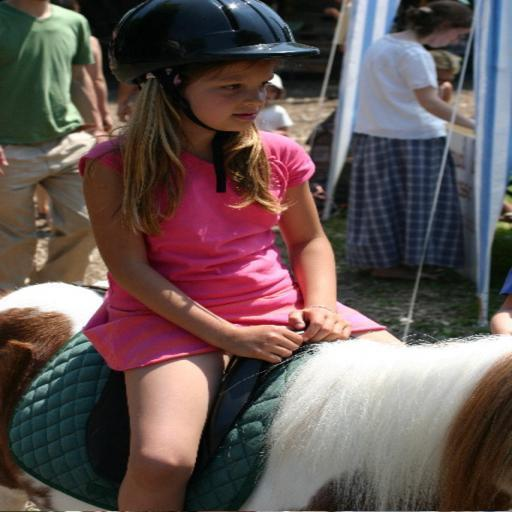Horse: (0, 279, 511, 511)
